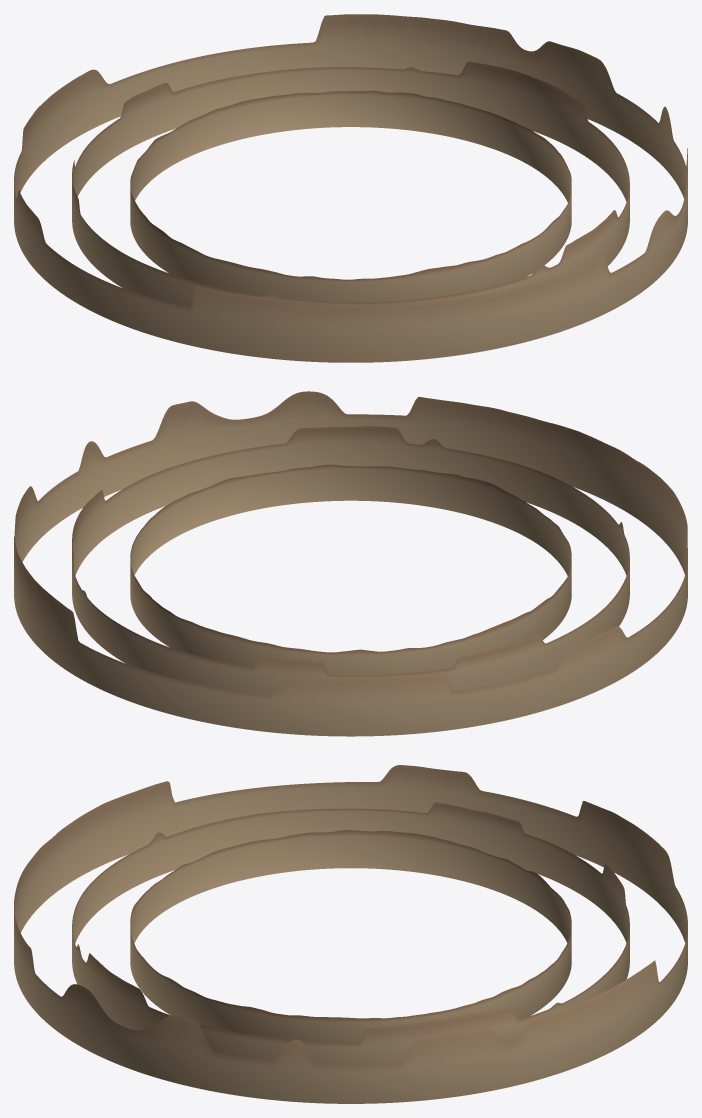
3 renders of one model, top to bottom at view 1: azimuth 30°, elevation 25°; view 2: azimuth 150°, elevation 25°; view 3: azimuth 270°, elevation 25°, orthographic.
Parts seen in each view (by area): view 1: Backdrop_L1_3; view 2: Backdrop_L1_3; view 3: Backdrop_L1_3.
Boxes of the visible parts, x1,y1,x2,y2 form: Backdrop_L1_3: (14,14,687,362); Backdrop_L1_3: (14,391,687,736); Backdrop_L1_3: (14,765,687,1103).
Size of the model in its own units: 2320 by 258 by 2320.
